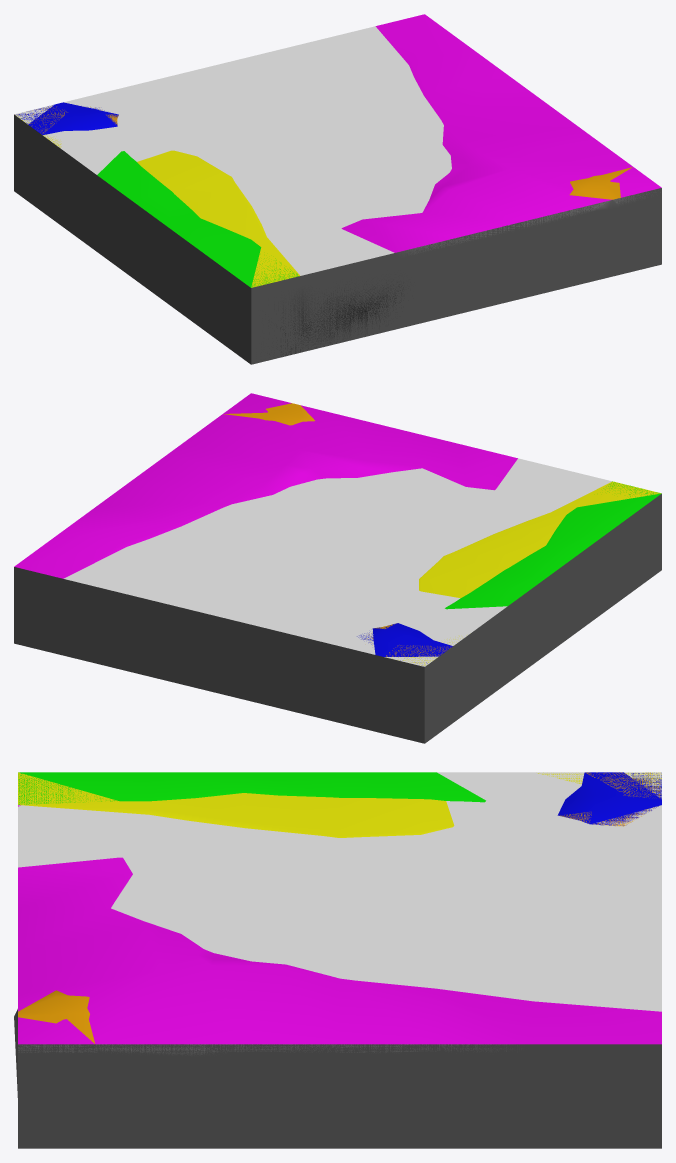
File: tilesGround.fbx
3 views of the same model, one above another, from view 1: azimuth 30°, elevation 25°; view 2: azimuth 150°, elevation 25°; view 3: azimuth 270°, elevation 25° (orthographic). The views are drawn at different scales.
Parts seen in each view (by area): view 1: tile_floor, tile_roadBend1, tile_roadStr1, tile_trampled, tile_roadStr2, tile_roadCap1, tile_roadCap2; view 2: tile_floor, tile_roadBend1, tile_roadStr1, tile_trampled, tile_roadStr2, tile_roadCap1, tile_roadCap2; view 3: tile_floor, tile_roadBend1, tile_trampled, tile_roadCap2, tile_roadStr1, tile_roadCap1, tile_roadStr2.
Boxes of the visible parts, left/top/right/bottom form: tile_floor: left=14, top=26, right=661, bottom=364; tile_roadBend1: left=14, top=14, right=661, bottom=363; tile_roadStr1: left=14, top=115, right=661, bottom=362; tile_trampled: left=14, top=132, right=661, bottom=364; tile_roadStr2: left=63, top=151, right=298, bottom=287; tile_roadCap1: left=14, top=102, right=654, bottom=363; tile_roadCap2: left=14, top=106, right=661, bottom=341; tile_floor: left=14, top=458, right=661, bottom=743; tile_roadBend1: left=14, top=393, right=661, bottom=742; tile_roadStr1: left=14, top=481, right=661, bottom=742; tile_trampled: left=14, top=503, right=661, bottom=742; tile_roadStr2: left=445, top=481, right=661, bottom=681; tile_roadCap1: left=14, top=531, right=661, bottom=741; tile_roadCap2: left=14, top=403, right=627, bottom=726; tile_floor: left=18, top=772, right=661, bottom=1148; tile_roadBend1: left=18, top=805, right=661, bottom=1148; tile_trampled: left=18, top=1053, right=661, bottom=1148; tile_roadCap2: left=14, top=772, right=660, bottom=1148; tile_roadStr1: left=18, top=772, right=661, bottom=1148; tile_roadCap1: left=18, top=772, right=661, bottom=1148; tile_roadStr2: left=18, top=772, right=485, bottom=804.
Bounding box in the file's own units: 6 × 1.16 × 6.04.
